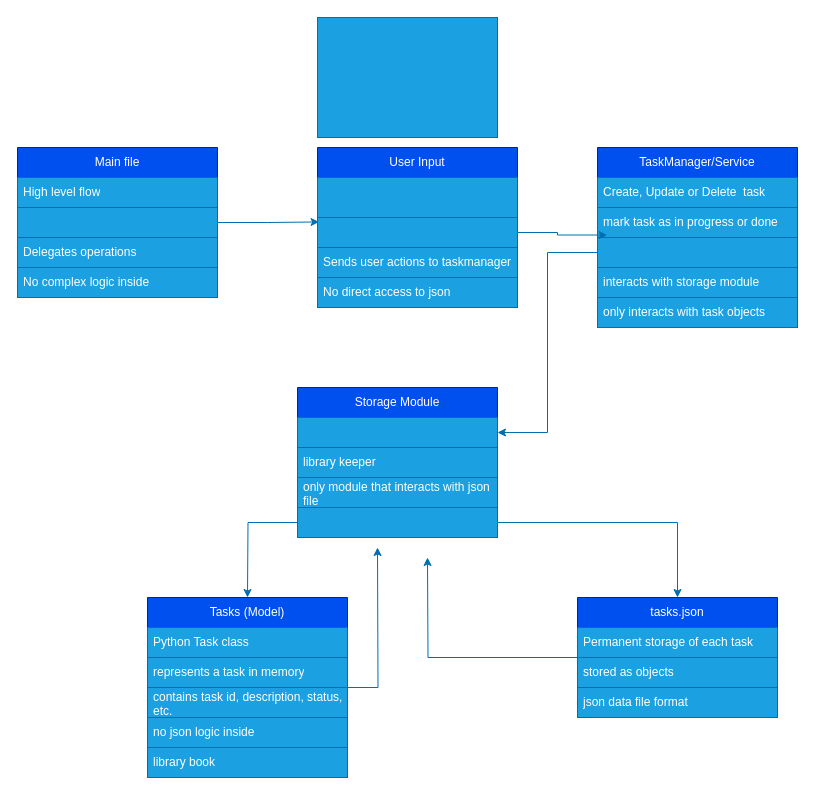
The diagram is 815 pixels wide and 795 high, and some of its shapes have lost their labels. Here are the shapes that lost their labels. From the top down, the centre of each, then its label:
(x=407, y=77): Task Tracker Programming Design
(x=417, y=197): task Menu
(x=117, y=222): Calls user input
(x=417, y=232): Input Validation
(x=697, y=252): list tasks by filter
(x=397, y=432): loads tasks.json -> task objects
(x=397, y=522): saves task objects in tasks.json
